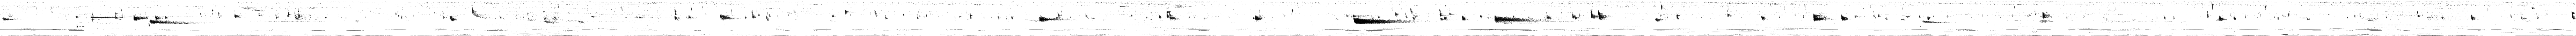meteor: (1354, 16, 1410, 25), (1495, 15, 1539, 23), (149, 20, 191, 25), (1040, 16, 1065, 23), (90, 15, 112, 21), (471, 8, 485, 18), (1439, 10, 1452, 20), (1166, 11, 1180, 20), (1814, 13, 1827, 21), (1597, 11, 1608, 20), (133, 15, 146, 21), (720, 15, 736, 20), (1922, 20, 1943, 23), (1590, 10, 1597, 20), (1840, 15, 1848, 21), (450, 15, 457, 21), (2042, 11, 2049, 18), (2218, 16, 2226, 21), (545, 20, 555, 23), (752, 11, 757, 18), (154, 16, 163, 20), (1654, 18, 1663, 21), (1395, 13, 1400, 18), (1761, 16, 1766, 21), (1572, 13, 1577, 18), (2471, 15, 2476, 20), (674, 16, 680, 20), (1255, 16, 1262, 20), (3, 18, 13, 20), (235, 15, 240, 18), (1462, 16, 1467, 20), (688, 16, 693, 18)
